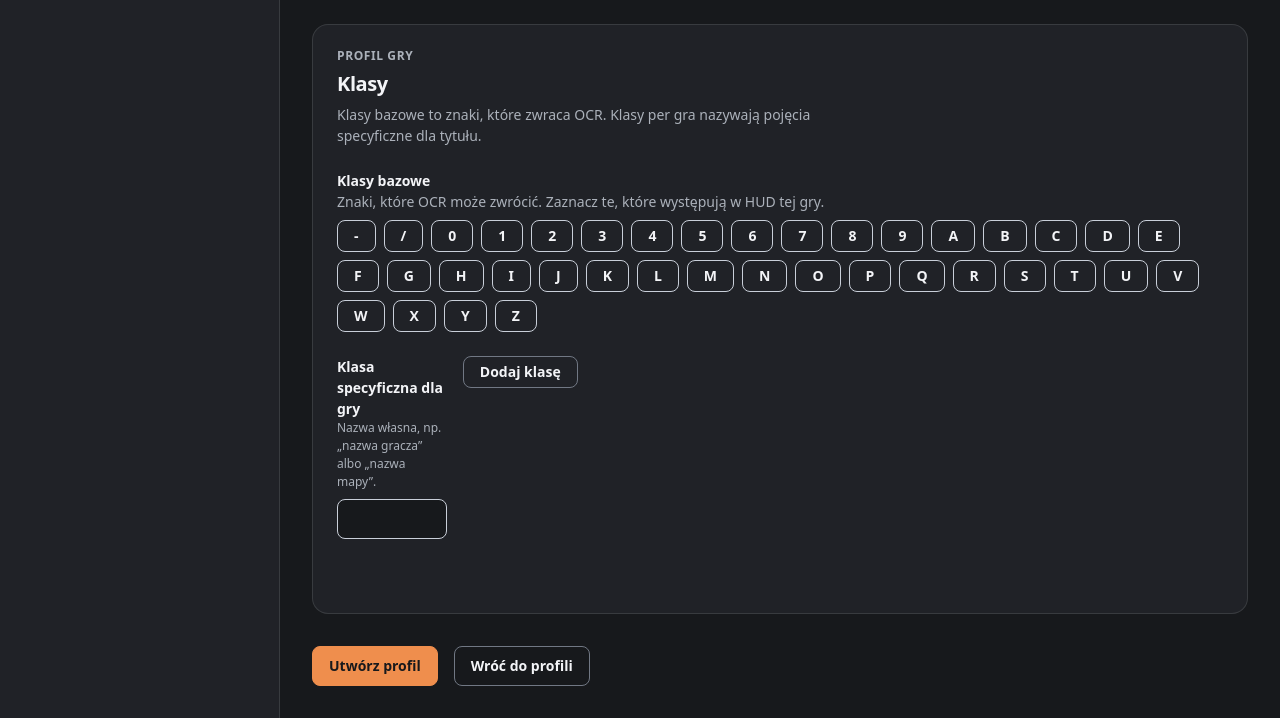
Test: creating a profile › blocks the request until the form itself is valid
(page scrolled)
Click the button "Utwórz profil" at (375, 666), box [312,646,438,686]
(page scrolled)
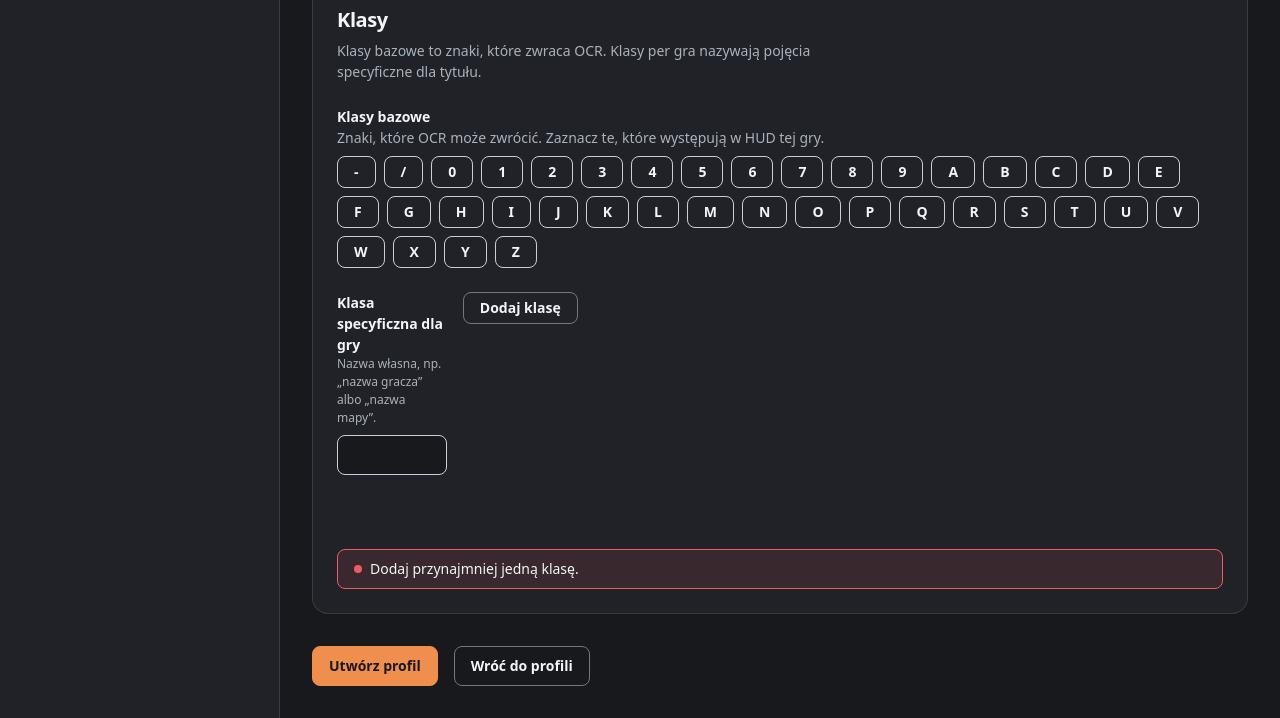
Expected: the text "Dodaj przynajmniej jedną klasę." is shown, [370,558,579,579]
